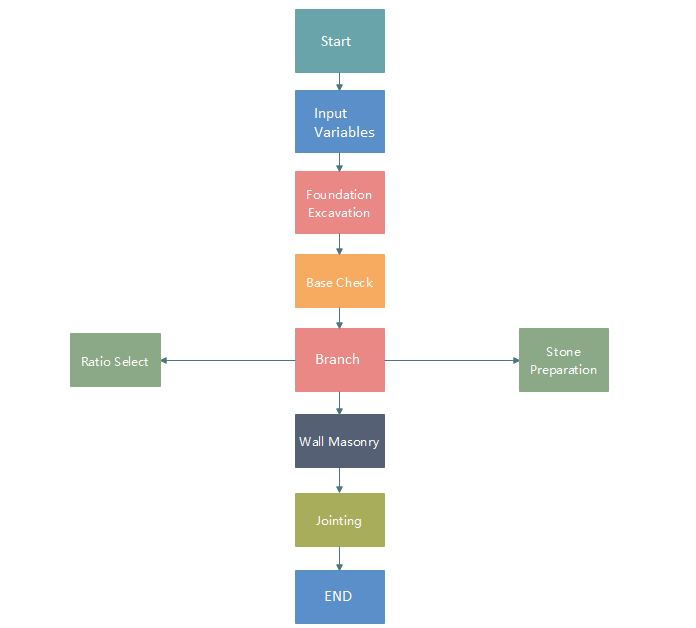arrow: (162, 351, 294, 370), (382, 355, 522, 369), (332, 389, 346, 416), (332, 547, 345, 573), (333, 468, 346, 493), (333, 233, 345, 256), (331, 71, 347, 88), (334, 149, 345, 172), (332, 309, 343, 328)
process: (292, 167, 389, 237), (517, 325, 614, 395), (291, 6, 389, 75), (292, 325, 388, 395), (291, 88, 388, 157), (67, 328, 163, 392), (291, 412, 388, 472), (292, 568, 389, 628), (292, 250, 387, 310), (292, 491, 388, 550)
text: (308, 106, 377, 143), (303, 188, 375, 222), (531, 345, 598, 380), (297, 431, 381, 450), (305, 273, 376, 291), (79, 354, 149, 372), (313, 511, 364, 529), (311, 352, 361, 368), (318, 31, 356, 50), (320, 587, 353, 604)
